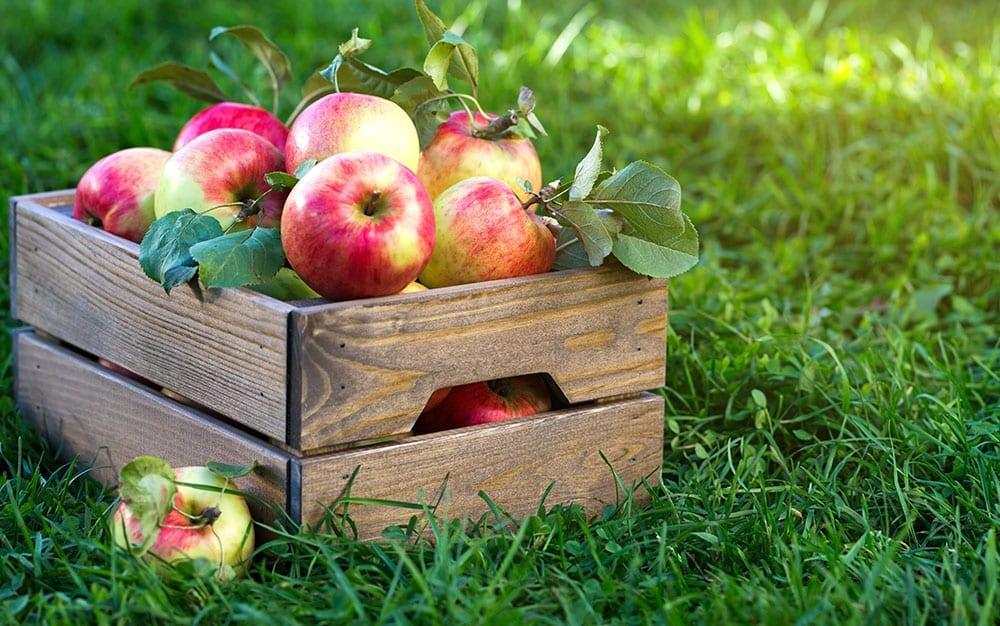apple: (281, 149, 440, 304), (113, 455, 258, 574), (420, 177, 559, 288), (153, 128, 282, 228), (423, 108, 544, 214), (285, 89, 422, 170), (74, 141, 175, 239), (410, 374, 564, 432), (177, 101, 282, 144)
